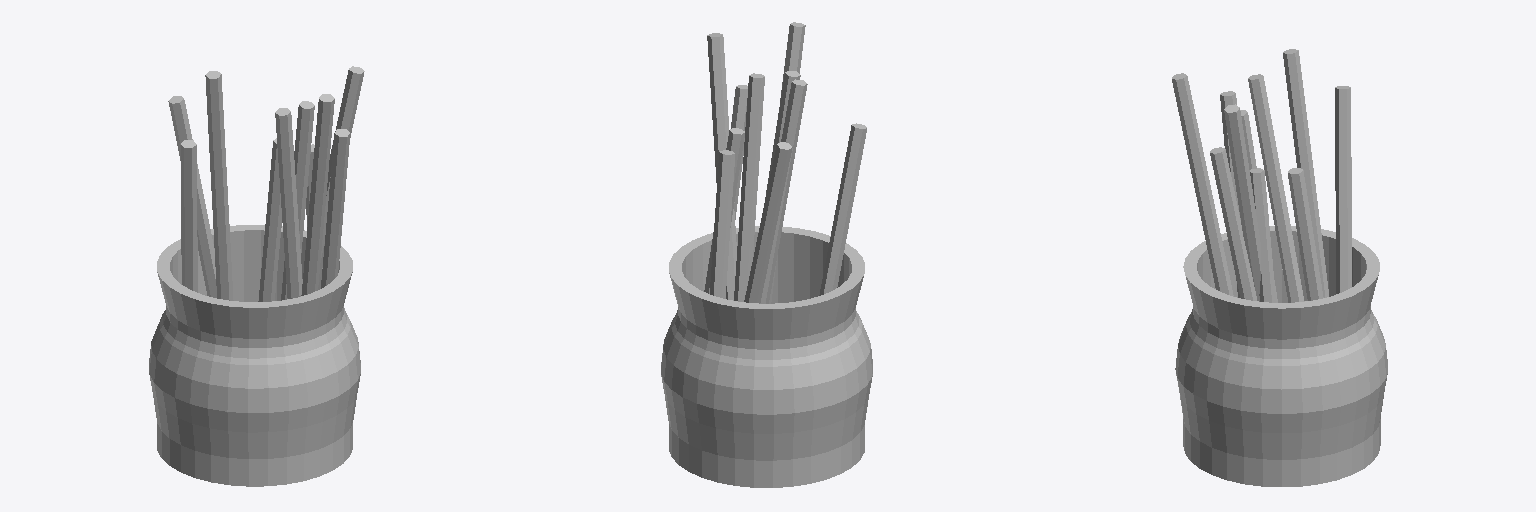
The model's file is pencils.obj.
3 views of the same model, side by side, from view 1: azimuth 30°, elevation 25°; view 2: azimuth 150°, elevation 25°; view 3: azimuth 270°, elevation 25° (orthographic).
Visible parts, largest first — view 1: pencils_Cylinder; view 2: pencils_Cylinder; view 3: pencils_Cylinder.
Boxes of the visible parts, box(x1,y1,x2,y2) form: pencils_Cylinder: box(149, 66, 364, 486); pencils_Cylinder: box(661, 22, 872, 487); pencils_Cylinder: box(1172, 49, 1387, 486).
Bounding box in the file's own units: 0.1111 × 0.2195 × 0.1131.